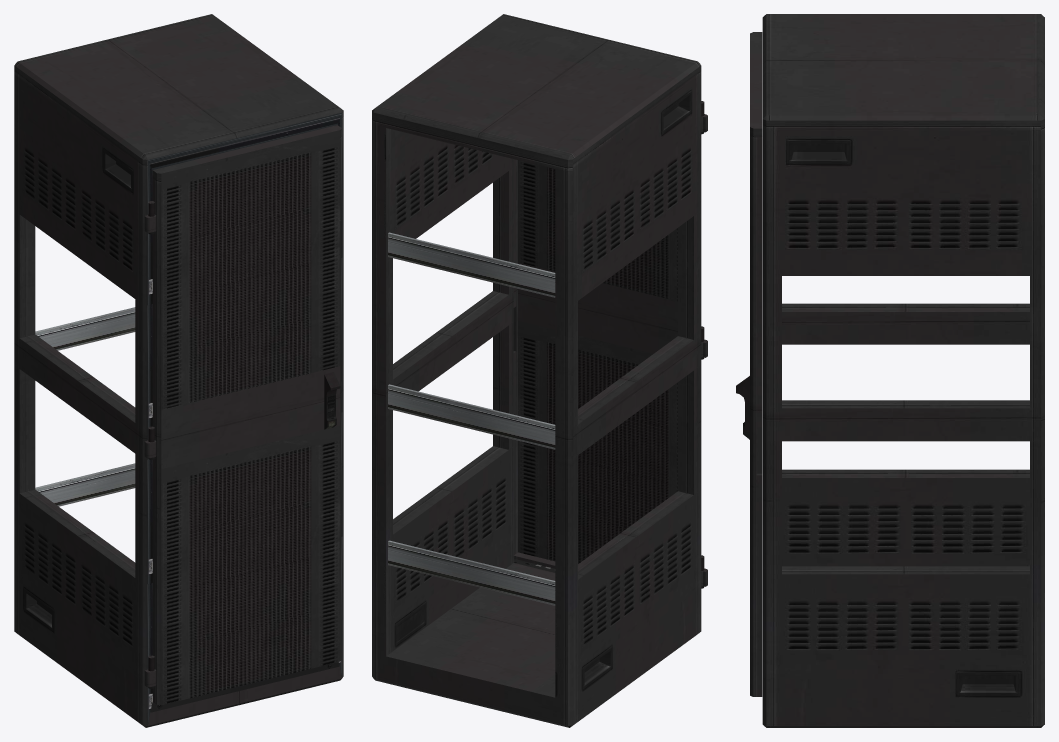
The model's file is server_rack-1.FBX.
3 renders of one model, left to right at view 1: azimuth 30°, elevation 25°; view 2: azimuth 150°, elevation 25°; view 3: azimuth 270°, elevation 25°, orthographic. The views are drawn at different scales.
Visible parts, largest first — view 1: server_rack-1_LOD0; view 2: server_rack-1_LOD0; view 3: server_rack-1_LOD0.
Part boxes in pixels (x1,y1,x2,y2): server_rack-1_LOD0: (14, 14, 343, 727); server_rack-1_LOD0: (372, 14, 707, 727); server_rack-1_LOD0: (736, 14, 1044, 727).
Size of what is drawn, in the model's own units: 32.62 by 88.28 by 40.35.
